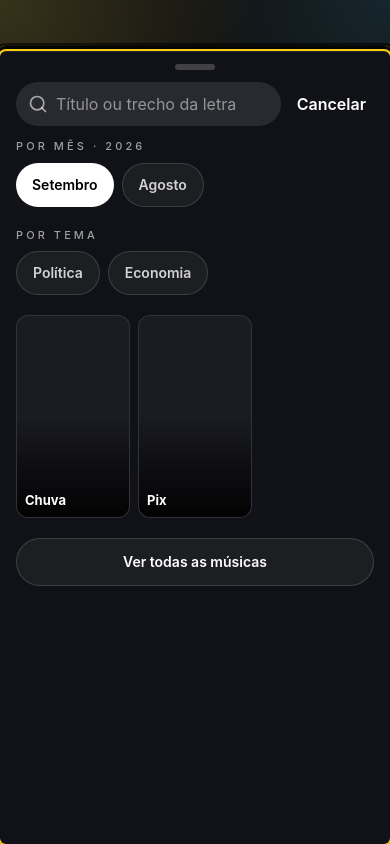
Test: SearchSheet (étape 10) › month and theme combine; a filter with no result shows a sentence + recent songs, never an empty grid
The width and height of the screenshot is (390, 844).
Click the button "Política" at (58, 273), box [16, 251, 100, 295]
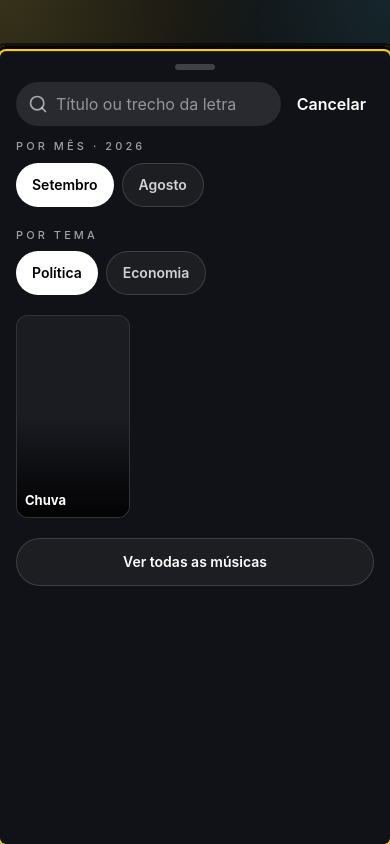
Click the button "Economia" at (156, 273), box [106, 251, 206, 295]
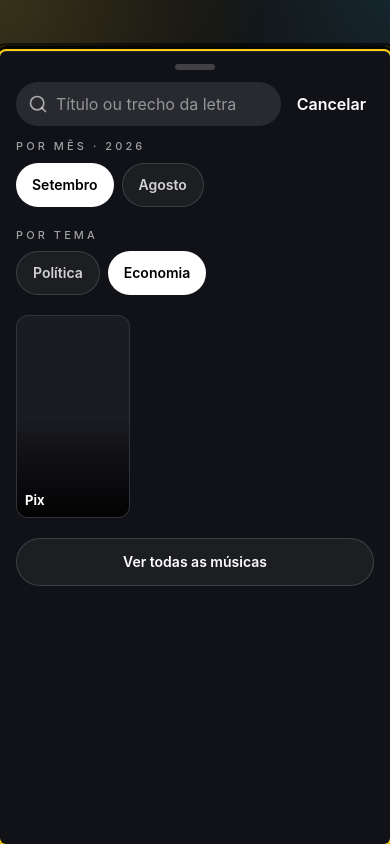
Click the button "Agosto" at (163, 184), box [122, 162, 204, 206]
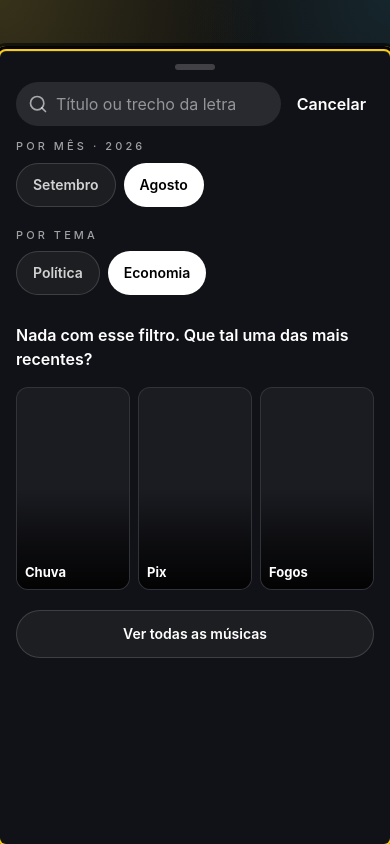
Expected: the text "Nada com esse filtro. Que tal uma das mais recentes?" is shown, [16, 315, 374, 387]
